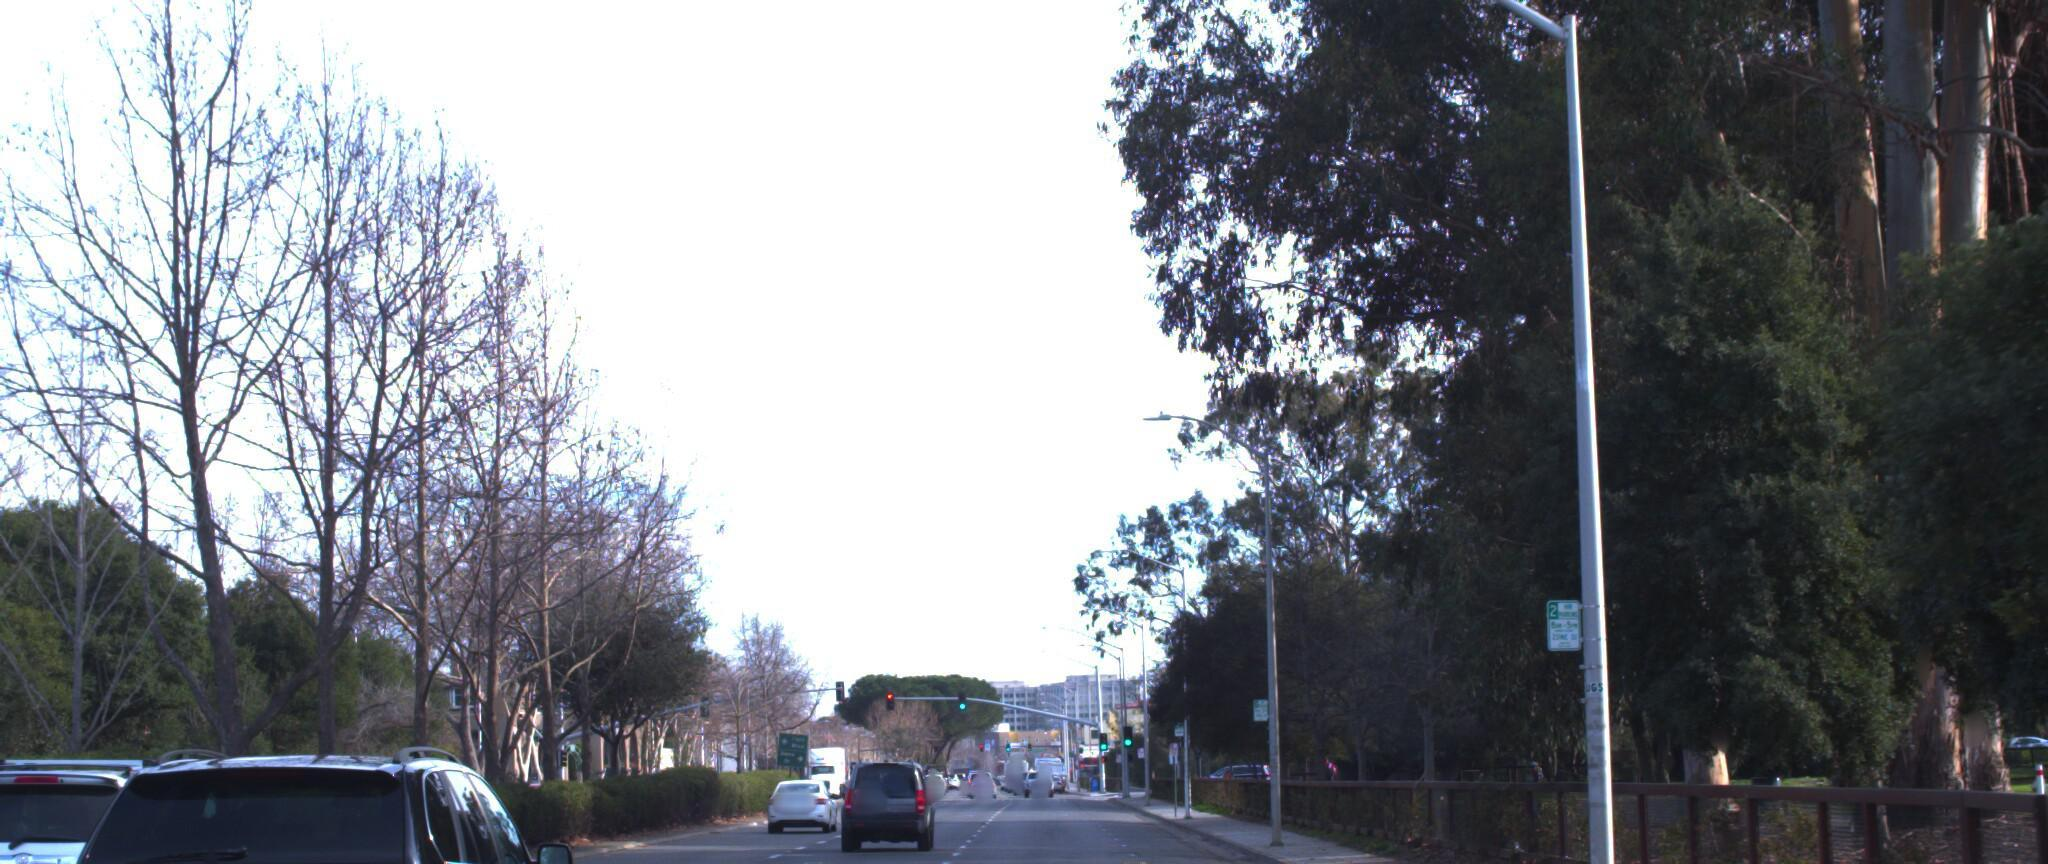car: (25, 744, 590, 864), (0, 749, 291, 864), (835, 748, 936, 844), (761, 764, 844, 837)
